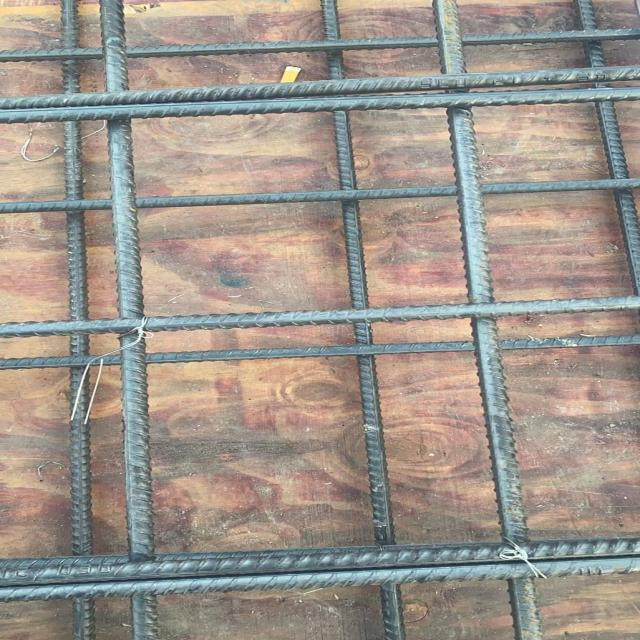ribbed bar: (428, 0, 544, 639), (318, 0, 404, 639), (96, 0, 159, 639), (1, 533, 639, 588), (0, 554, 639, 602), (0, 65, 639, 109), (0, 296, 639, 340), (0, 84, 639, 124), (0, 332, 639, 371), (0, 25, 639, 63), (0, 178, 639, 215), (60, 0, 93, 639), (569, 0, 639, 301)
